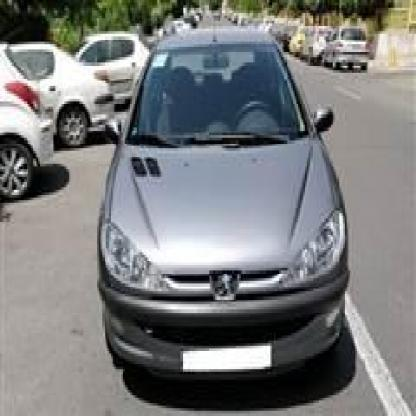Car: (109, 29, 350, 392), (10, 44, 126, 140), (67, 23, 170, 104), (0, 44, 47, 208), (324, 23, 376, 78), (295, 20, 326, 68), (288, 24, 303, 58)
